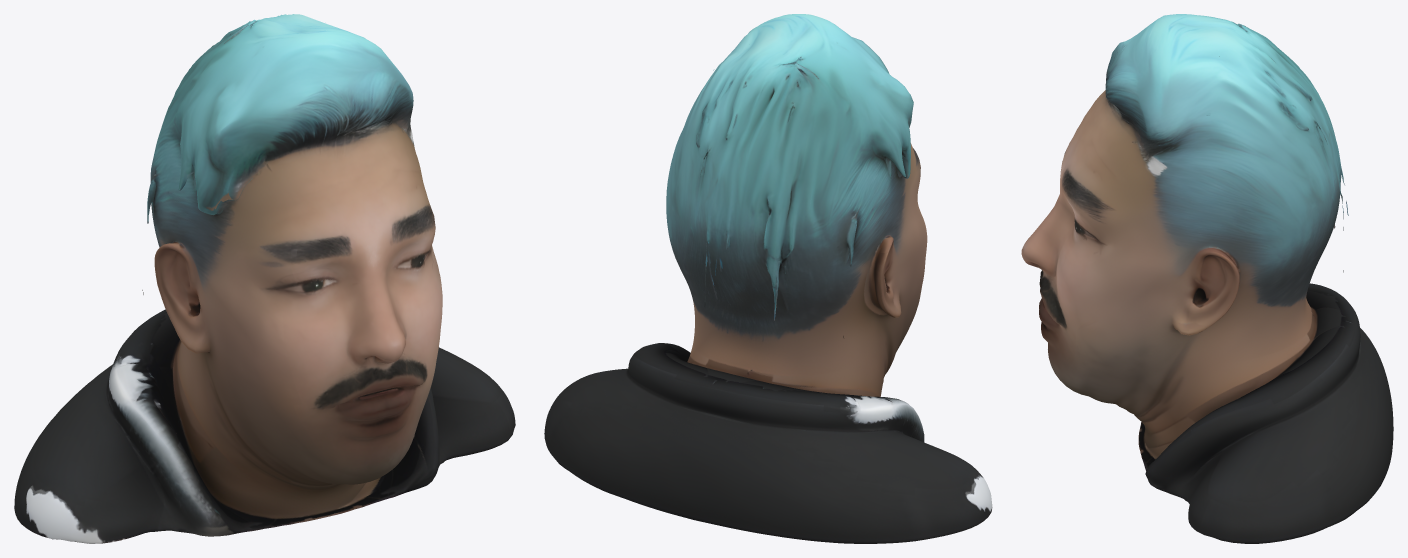
File: babuino.glb
3 views of the same model, side by side, from view 1: azimuth 30°, elevation 25°; view 2: azimuth 150°, elevation 25°; view 3: azimuth 270°, elevation 25° (orthographic). The views are drawn at different scales.
Parts seen in each view (by area): view 1: model; view 2: model; view 3: model.
Part boxes in pixels (<box>): model: <box>14,14,515,543</box>; model: <box>544,14,992,543</box>; model: <box>1021,14,1393,543</box>.
Size of the model in its own units: 1.9 by 1.78 by 1.44.
Materials: 1 (1 with a texture image).
